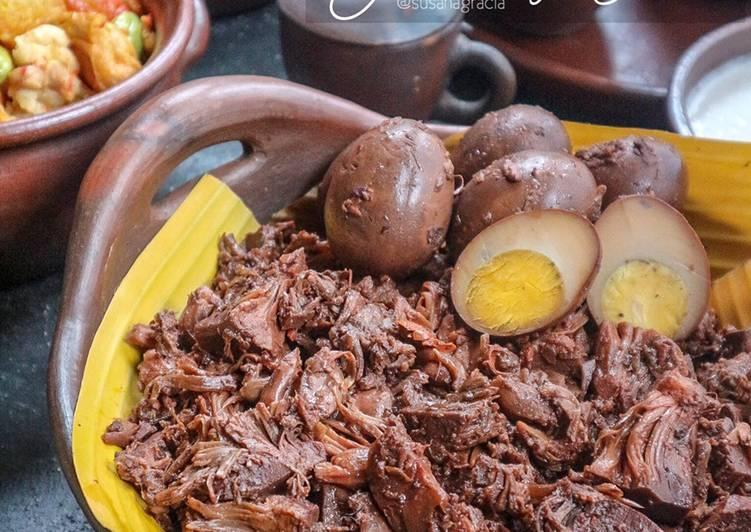gudeg: (99, 105, 751, 532)
